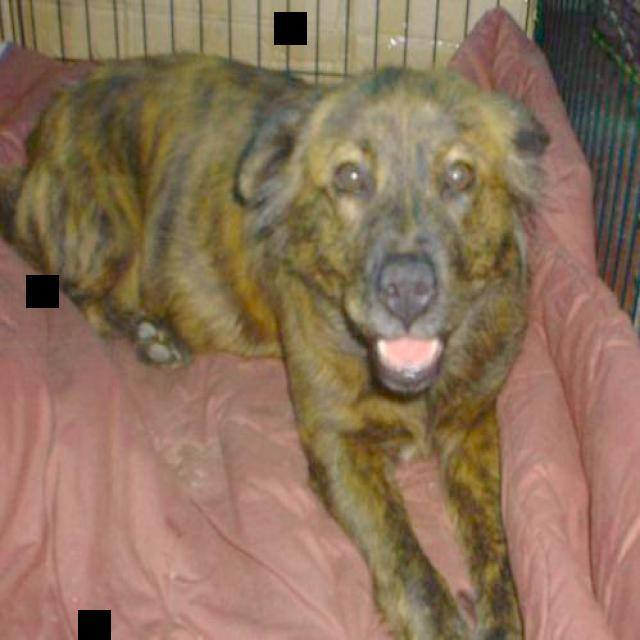adult_dog: (5, 51, 554, 640)
